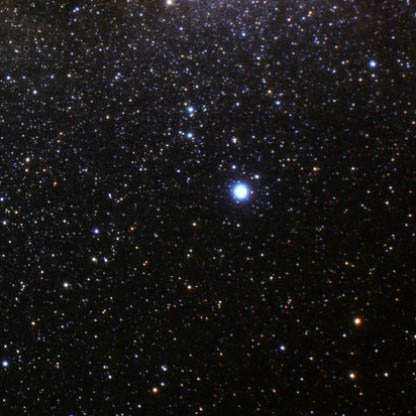Lyra: (223, 177, 255, 214), (180, 128, 201, 147), (181, 98, 200, 118), (250, 166, 266, 186), (225, 132, 242, 150), (223, 156, 239, 175)
